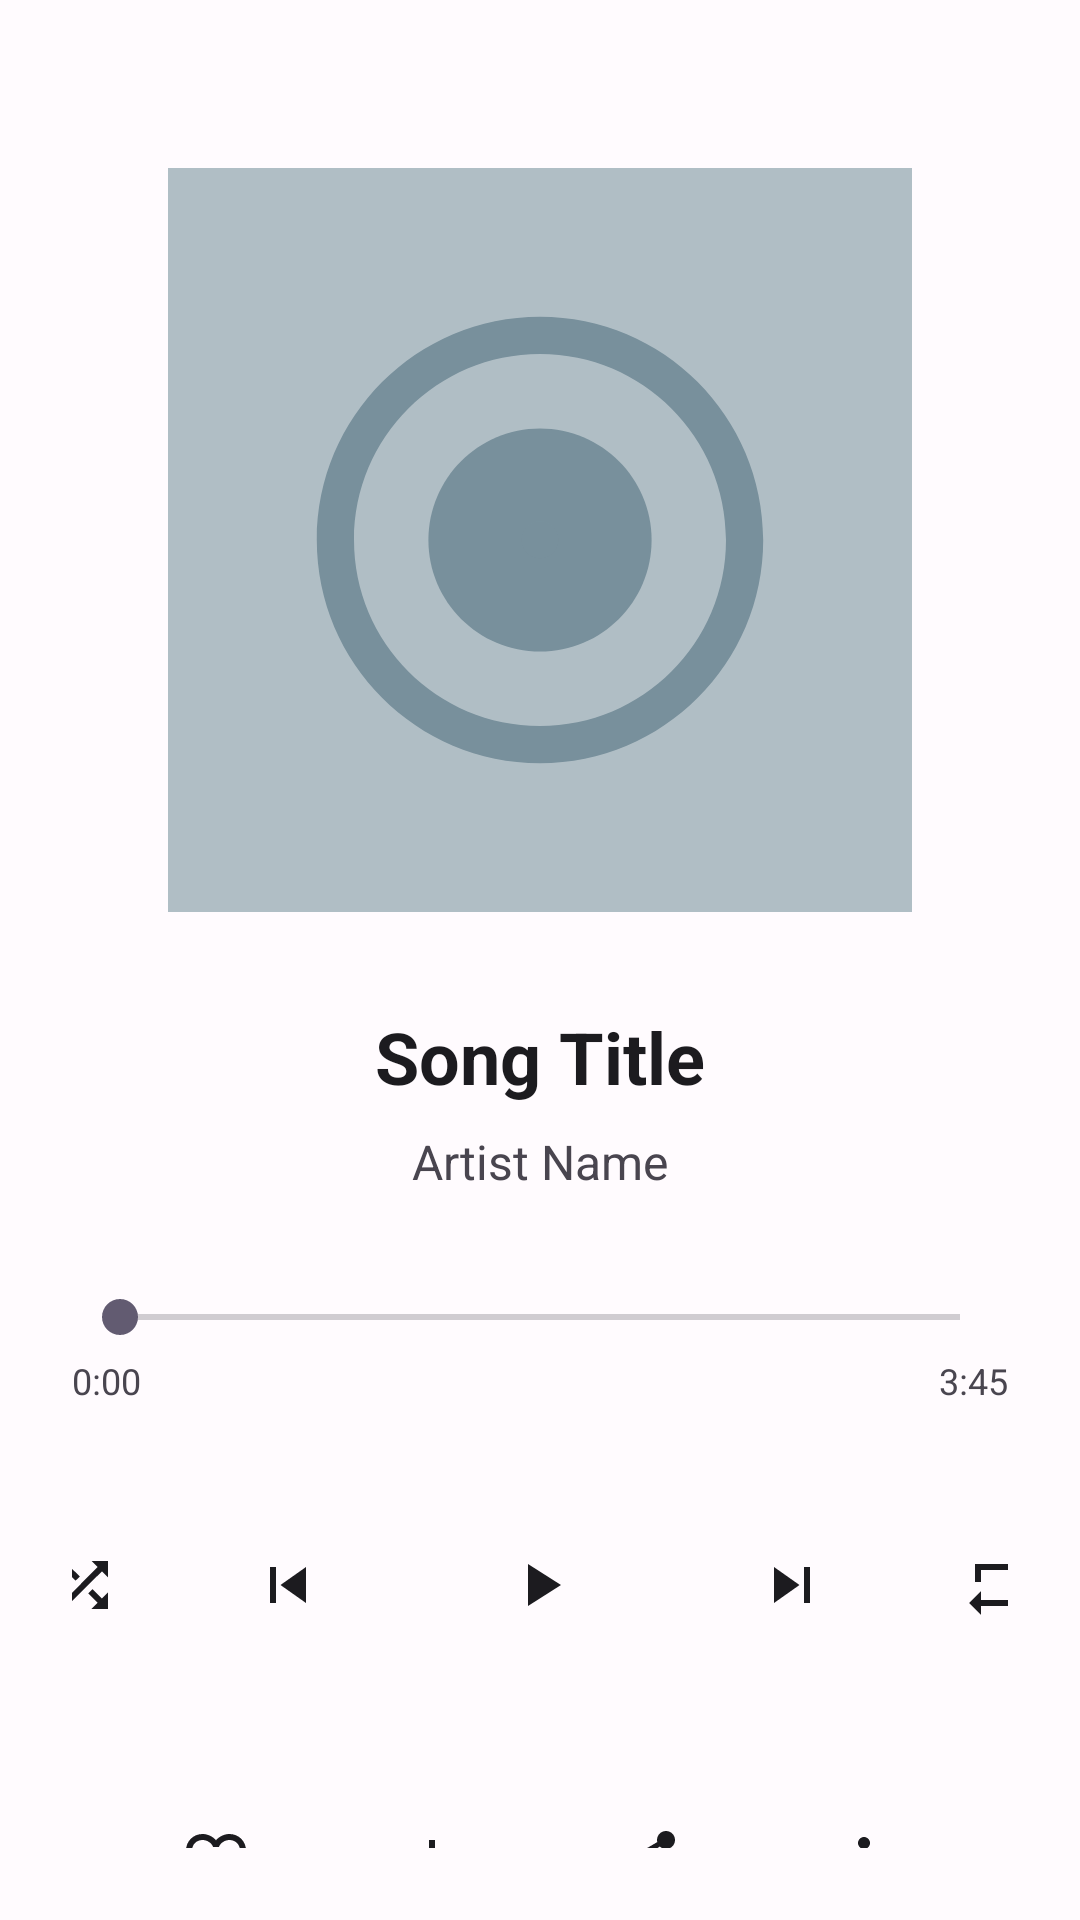

Point at icon controls on the screen. Image size 1080 × 1920, points as (x=x, y=y).
Next: (x=792, y=1585)
Play/Pause: (x=544, y=1585)
Previous: (x=288, y=1585)
